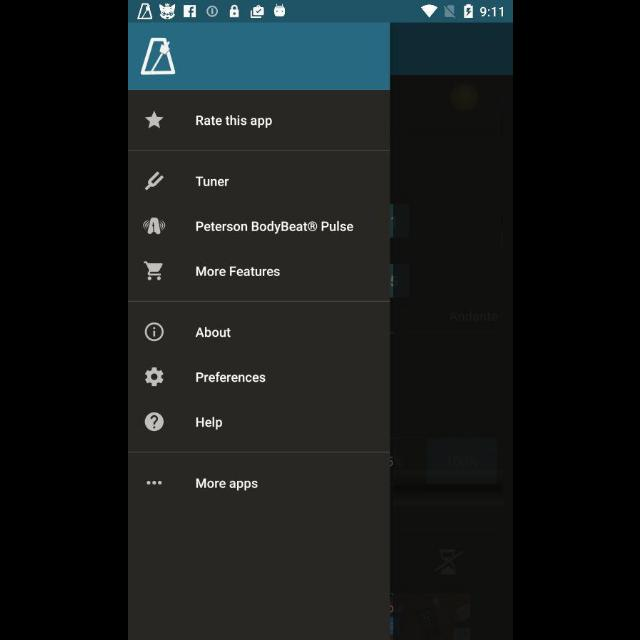icon: (143, 260, 163, 282), (142, 218, 166, 236), (144, 412, 164, 432), (144, 322, 164, 342), (144, 110, 164, 130), (144, 368, 164, 387), (144, 172, 164, 190), (146, 481, 162, 485)
image: (140, 38, 176, 76)
panel: (128, 24, 388, 640)
text: (195, 221, 353, 235), (195, 115, 272, 129), (196, 265, 280, 277), (195, 477, 257, 491), (195, 371, 265, 383), (195, 327, 231, 339), (195, 176, 229, 188), (195, 416, 222, 430)
uppertaskbar: (128, 1, 512, 23)
